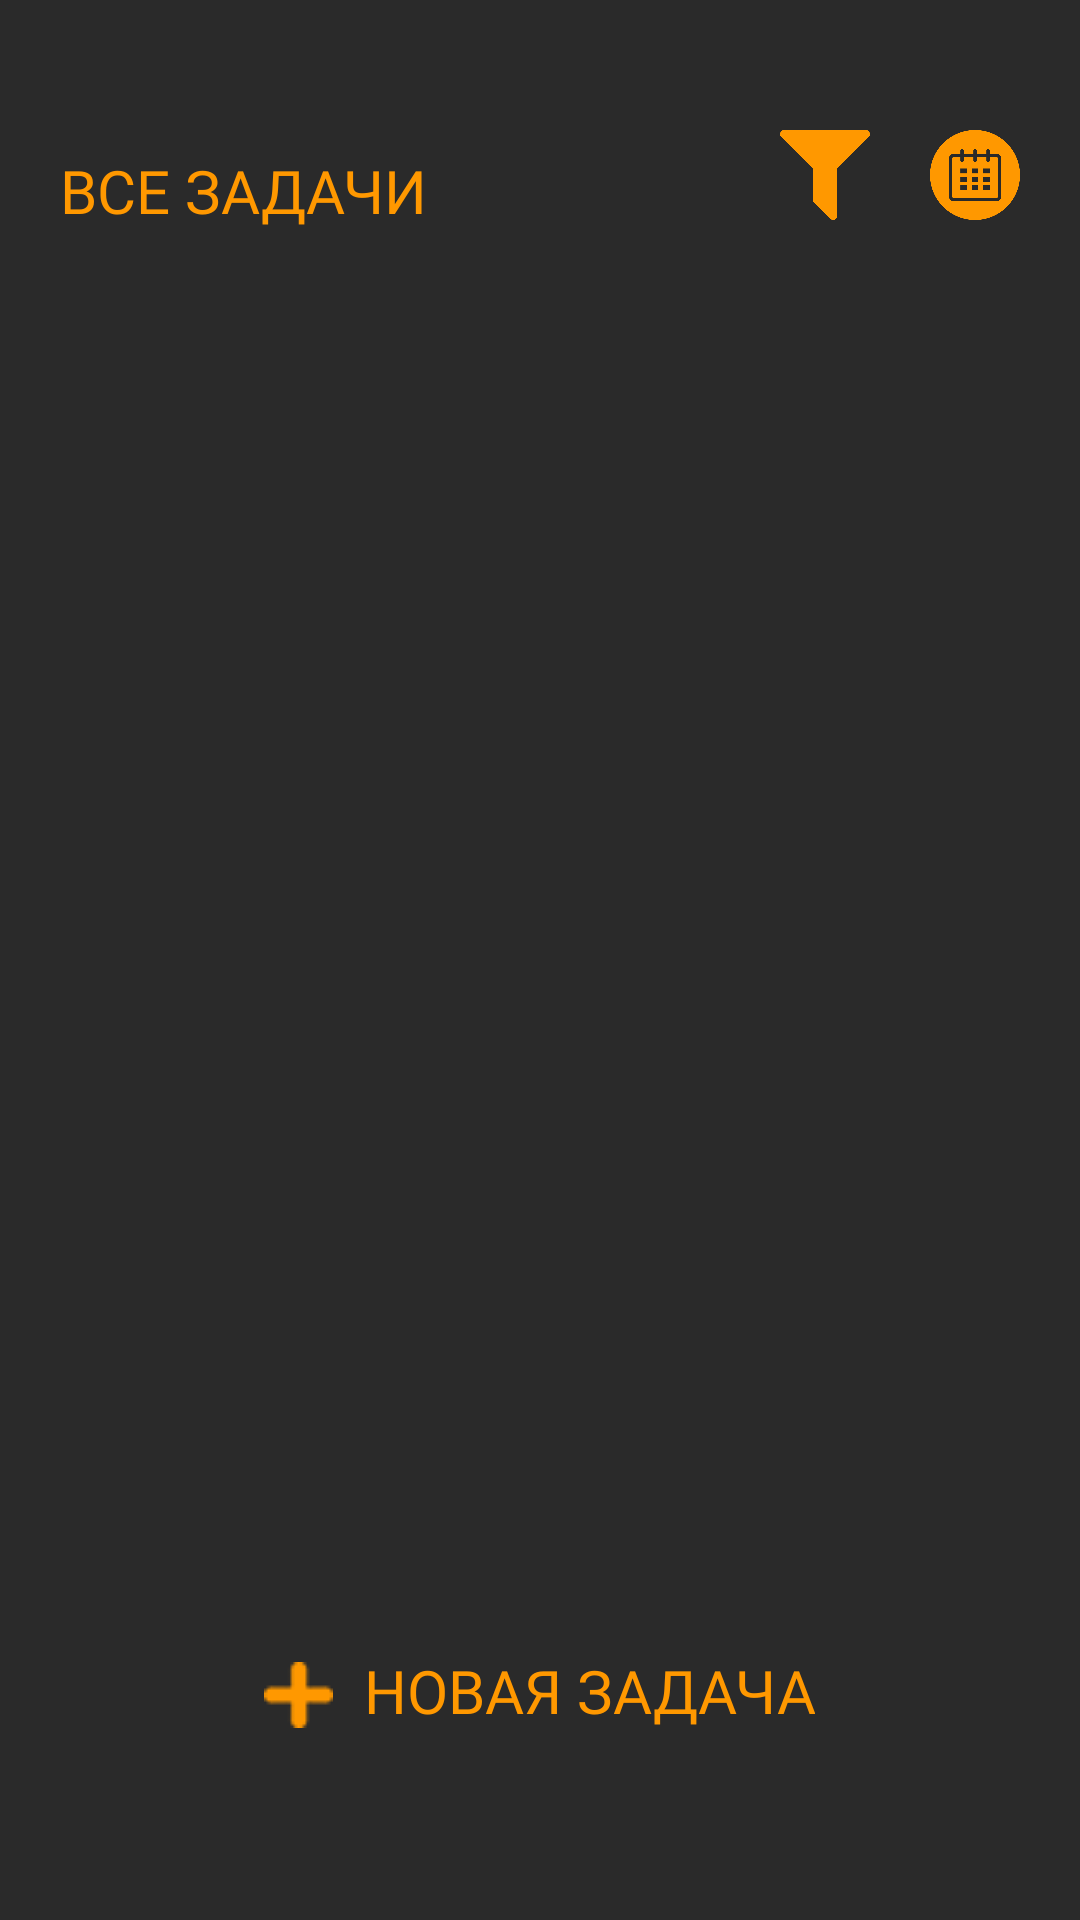

Named icons in this screenshot (1080 × 1920) and their centers, point (x, y):
calendar: point (975, 175)
filter: point (825, 175)
